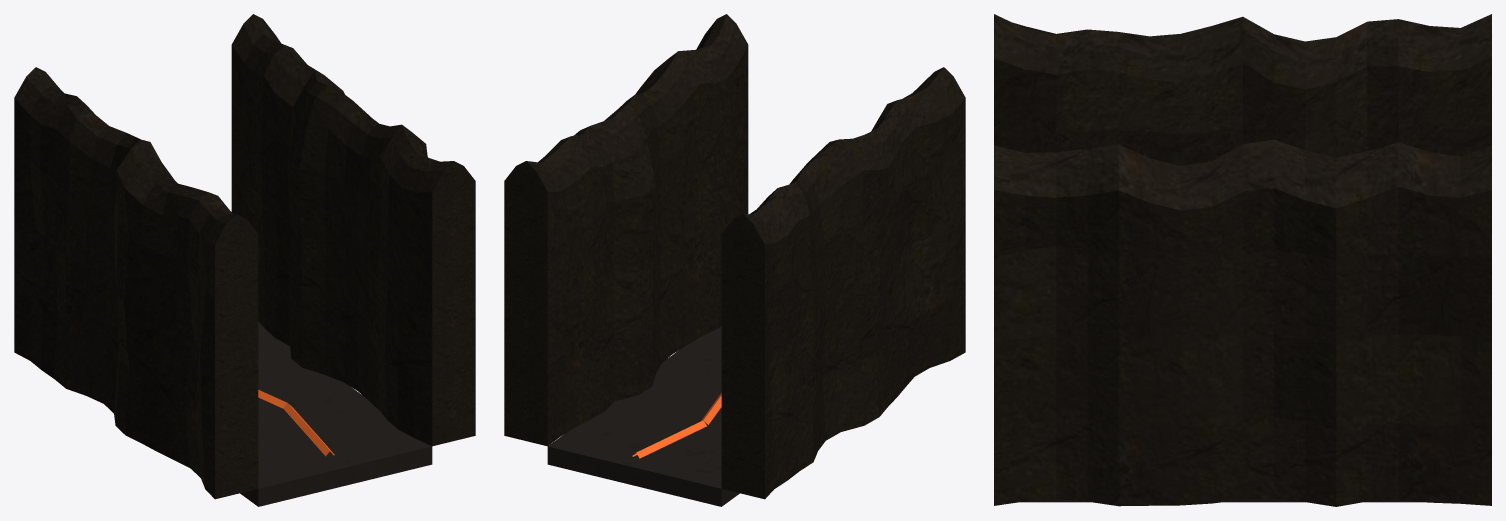
Rendered from cave_corridor_01_lava.glb.
3 renders of one model, left to right at view 1: azimuth 30°, elevation 25°; view 2: azimuth 150°, elevation 25°; view 3: azimuth 270°, elevation 25°, orthographic. The views are drawn at different scales.
Parts seen in each view (by area): view 1: cave_corridor_01_lava; view 2: cave_corridor_01_lava; view 3: cave_corridor_01_lava.
Part boxes in pixels (bbox=[...]): cave_corridor_01_lava: bbox=[14, 14, 475, 506]; cave_corridor_01_lava: bbox=[504, 14, 965, 506]; cave_corridor_01_lava: bbox=[994, 14, 1491, 506].
Bounding box in the file's own units: 3.09 × 3.28 × 4.
Materials: 3 (3 with a texture image).
